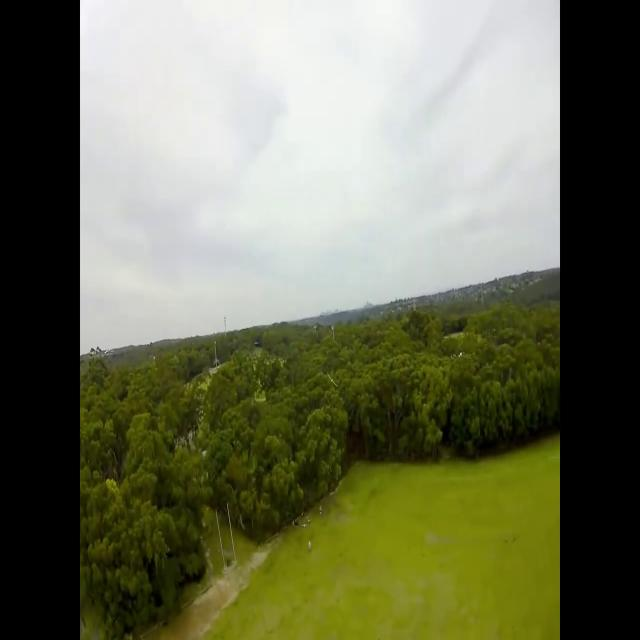iha: (324, 373, 328, 388)
